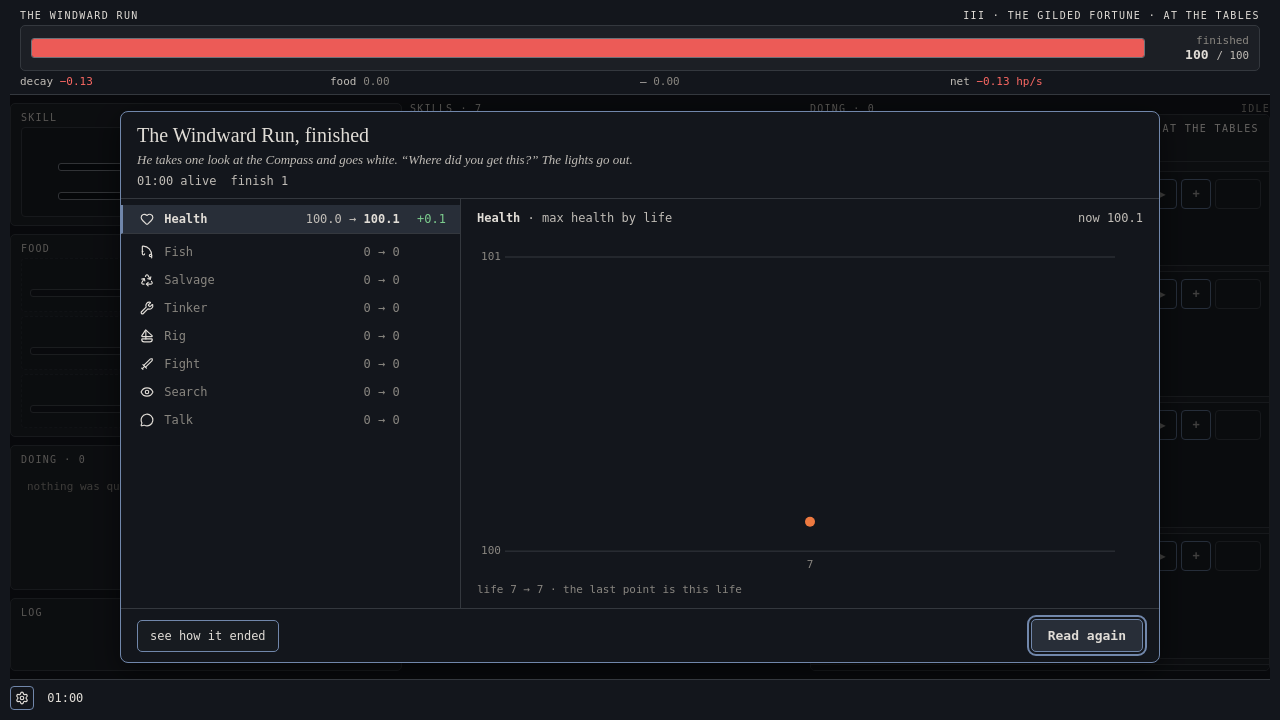
Test: App › the book finished: the overlay is up with the finish's words, and Read again starts the next life at port I
Click the button "Read again" at (1087, 636), box [1031,619,1143,652]
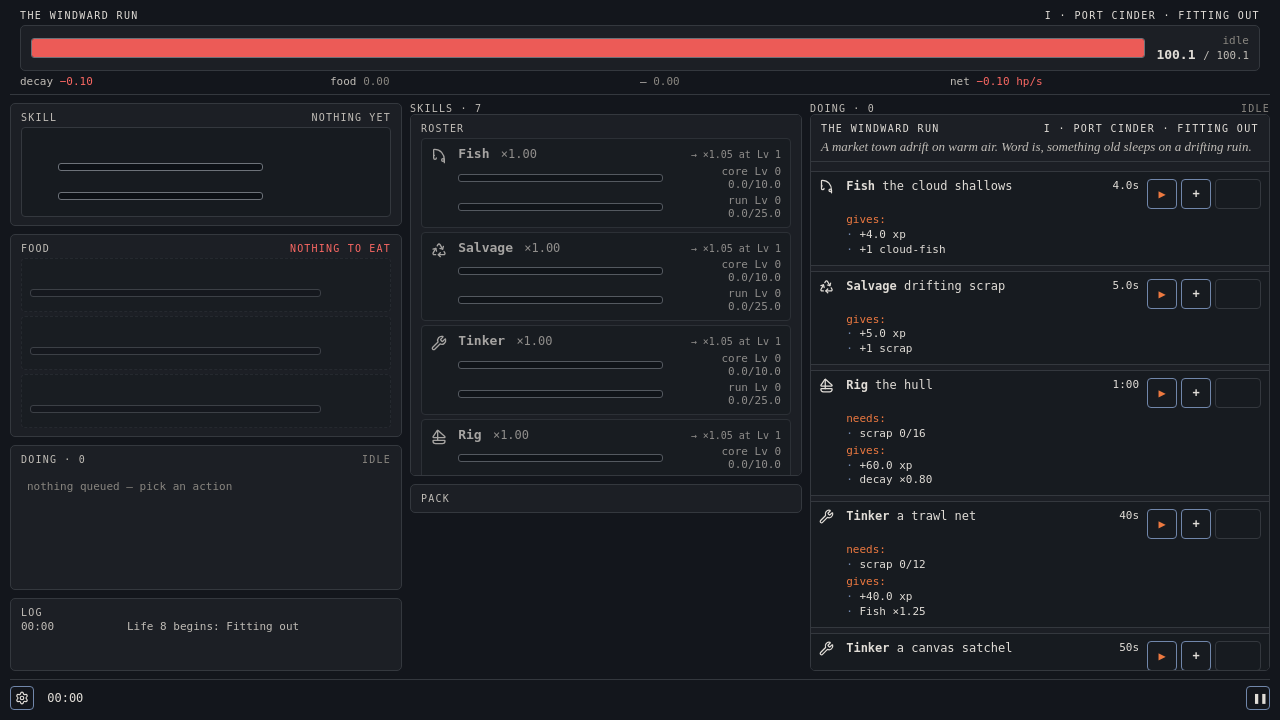
Check: the dialog is gone
